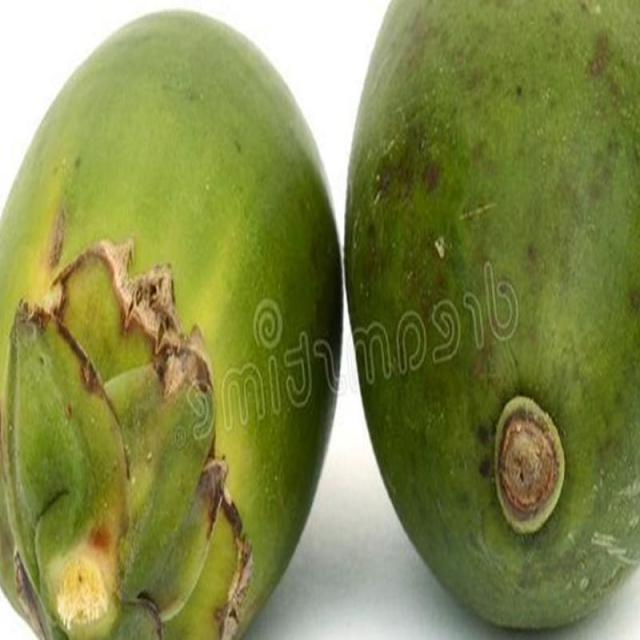good: (0, 11, 344, 639), (343, 0, 639, 633)
